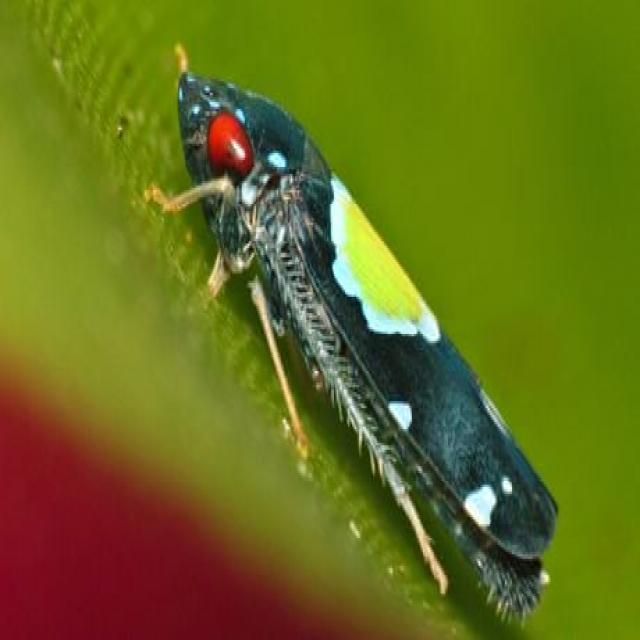Yechan: (163, 51, 554, 606)
